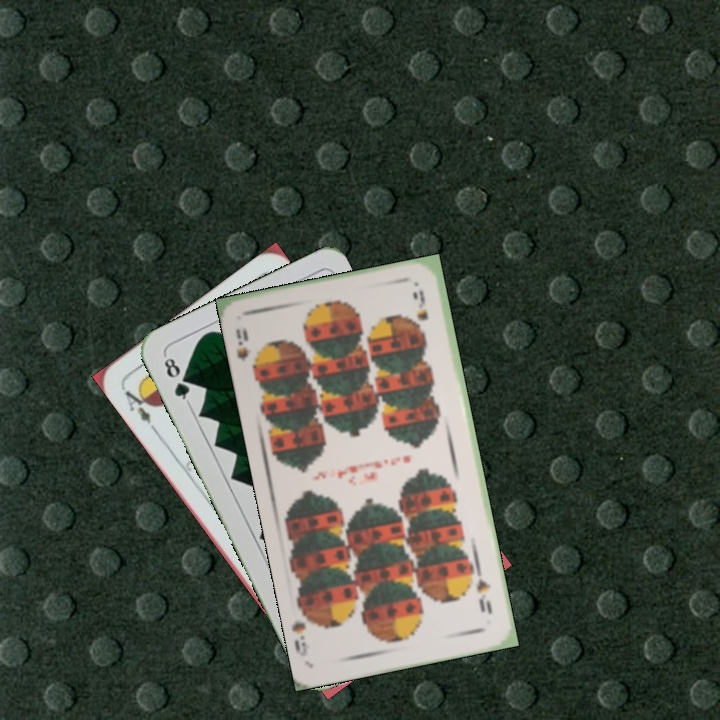EA: (121, 382, 159, 434)
G8: (160, 351, 193, 407)
S9: (232, 324, 263, 377), (472, 566, 495, 617)
